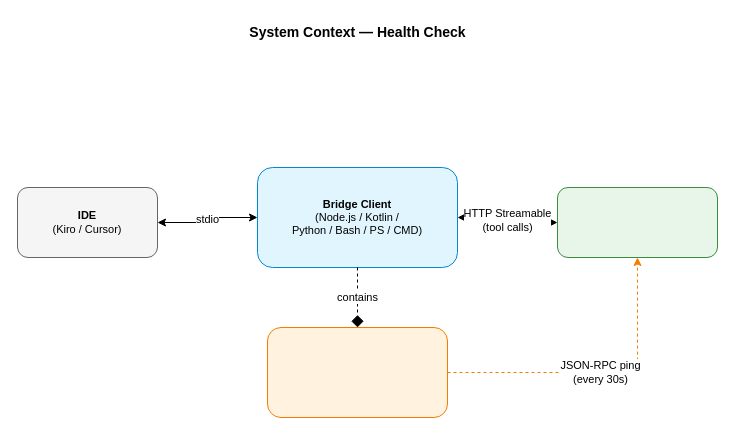
This 735x435 diagram has some shape labels left out. The shapes that lost their labels are listed below. From the top down, each one's box as (x1, y1, x2, y2) in pixels, then its label:
(556, 186, 718, 258): MCP Orchestrator (Kotlin / Ktor)
(266, 326, 448, 418): Health Check Module • PingScheduler • StateManager • ReconnectionManager
